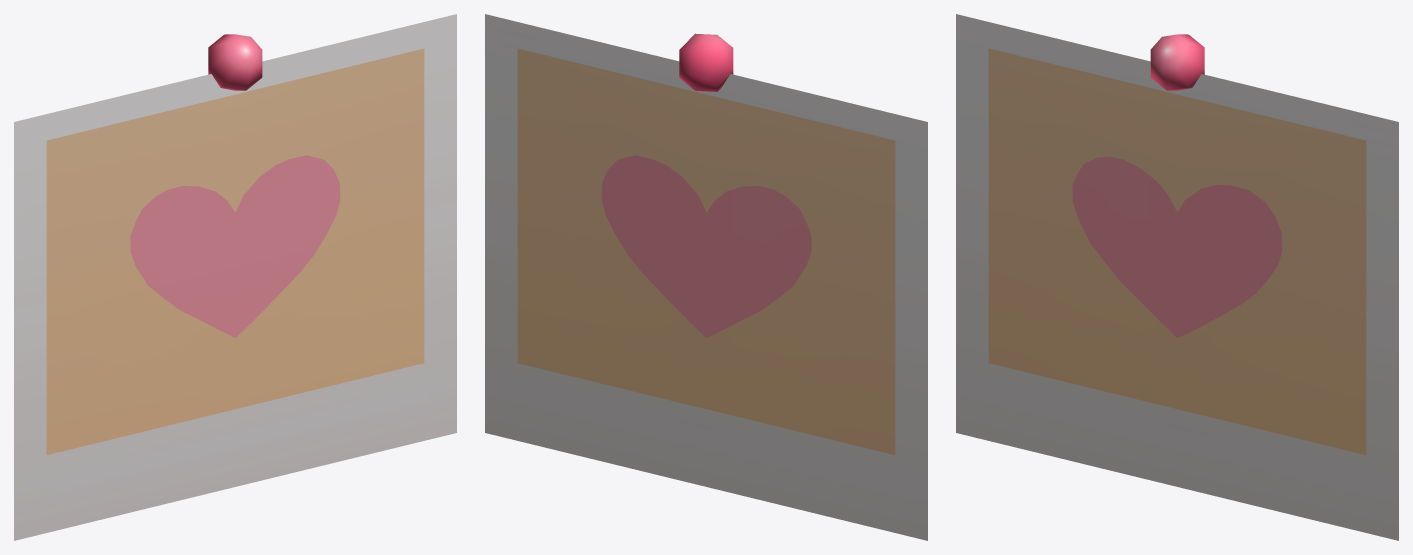
Rendered from Doll_OB_Memo_001.FBX.
3 views of the same model, side by side, from view 1: azimuth 30°, elevation 25°; view 2: azimuth 150°, elevation 25°; view 3: azimuth 330°, elevation 25° (orthographic).
Visible parts, largest first — view 1: Doll_OB_Memo_001; view 2: Doll_OB_Memo_001; view 3: Doll_OB_Memo_001.
Boxes of the visible parts, left/top/right/bottom form: Doll_OB_Memo_001: left=14, top=14, right=456, bottom=540; Doll_OB_Memo_001: left=485, top=14, right=927, bottom=540; Doll_OB_Memo_001: left=956, top=14, right=1398, bottom=540.
Bounding box in the file's own units: 43.81 × 42.78 × 5.34.
